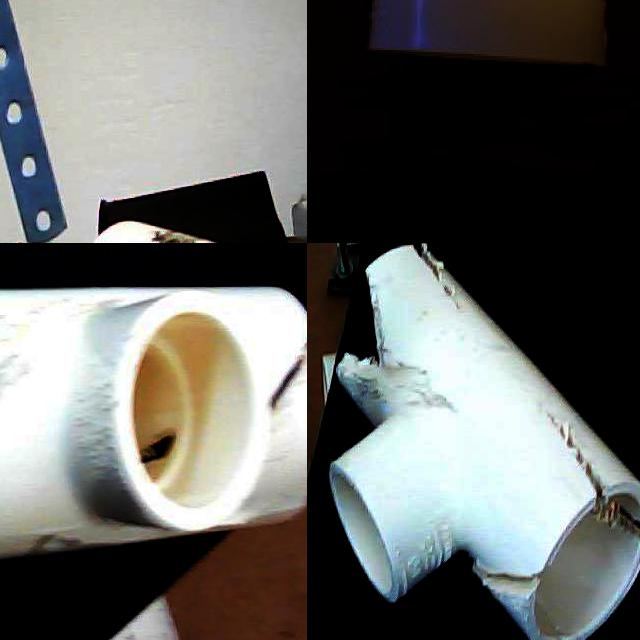Defective: (520, 407, 640, 562), (469, 498, 551, 637), (345, 286, 433, 408), (235, 315, 307, 459), (400, 243, 474, 326), (110, 422, 202, 487)
T Joint: (327, 244, 640, 640), (0, 287, 307, 560)
